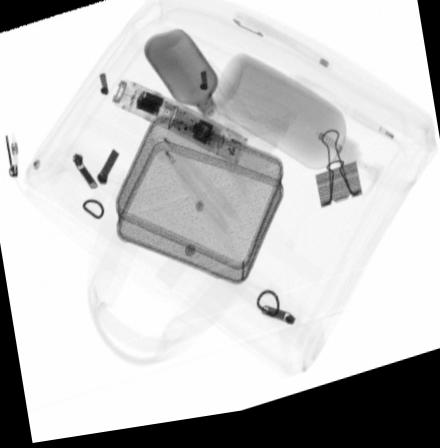Baton: (111, 77, 250, 176)
